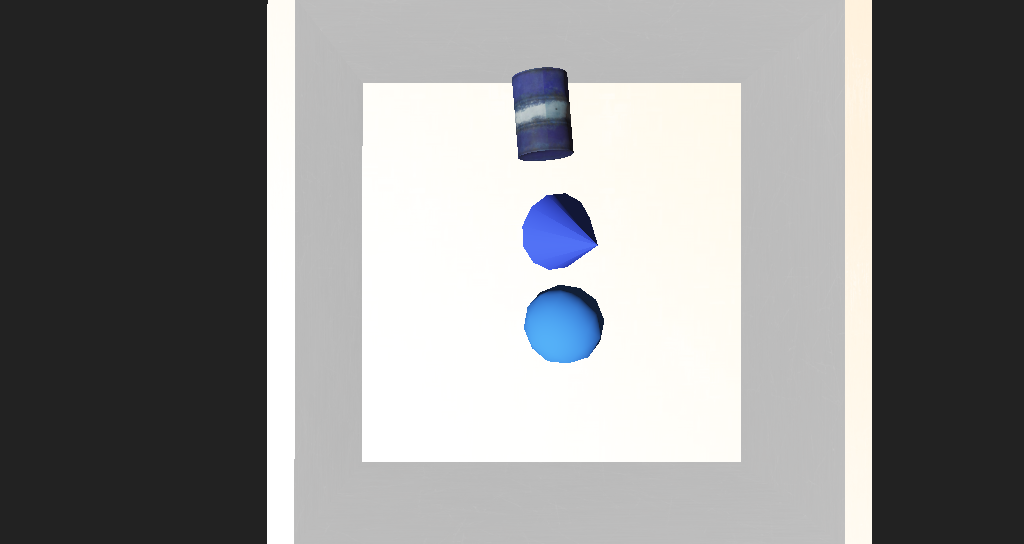cone: (475, 155, 522, 208)
cylinder: (475, 220, 576, 277)
sphere: (478, 272, 546, 320)
